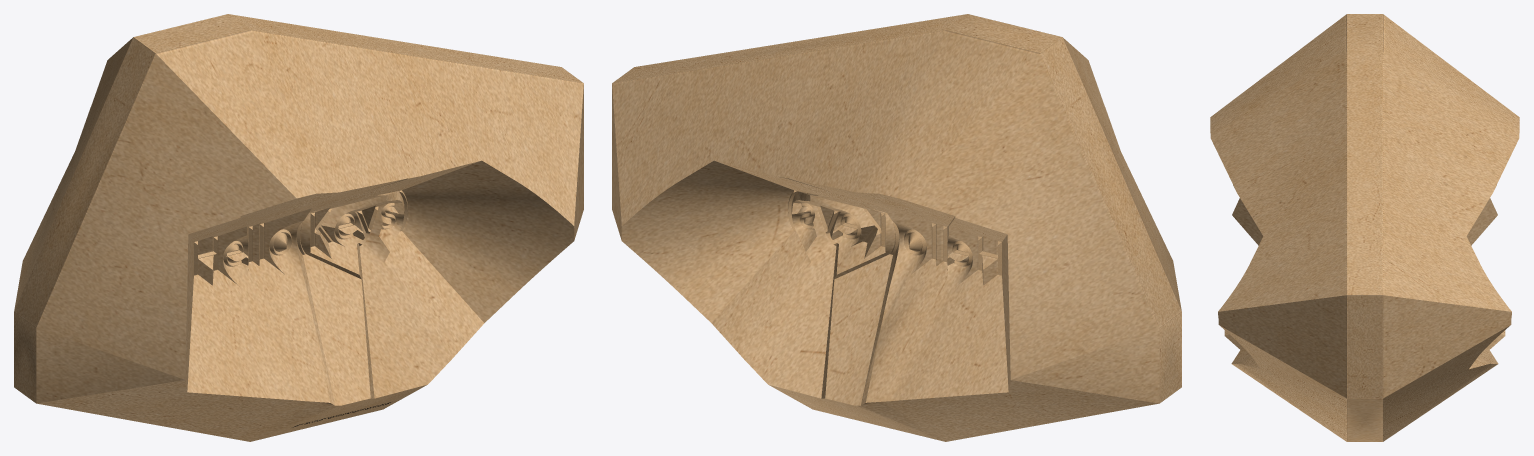
Rendered from Asset3.gltf.
3 renders of one model, left to right at view 1: azimuth 30°, elevation 25°; view 2: azimuth 150°, elevation 25°; view 3: azimuth 270°, elevation 25°, orthographic. The views are drawn at different scales.
Size of the model in its own units: 0.3177 by 0.2282 by 0.19.
Materials: 2 (2 with a texture image).
